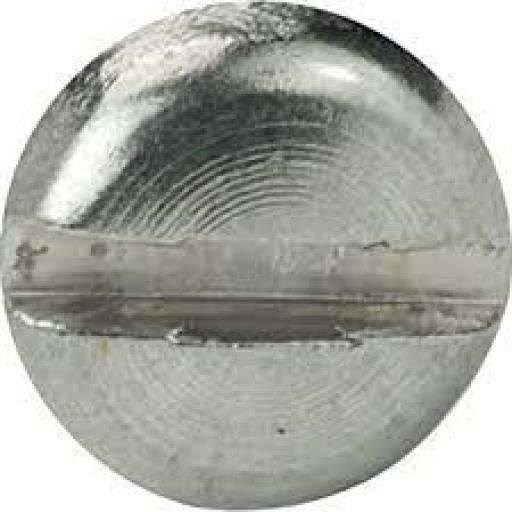Slotted: (2, 1, 512, 505)
